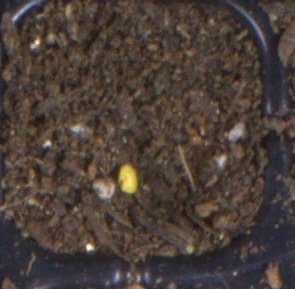chilli seed: (117, 162, 139, 194)
